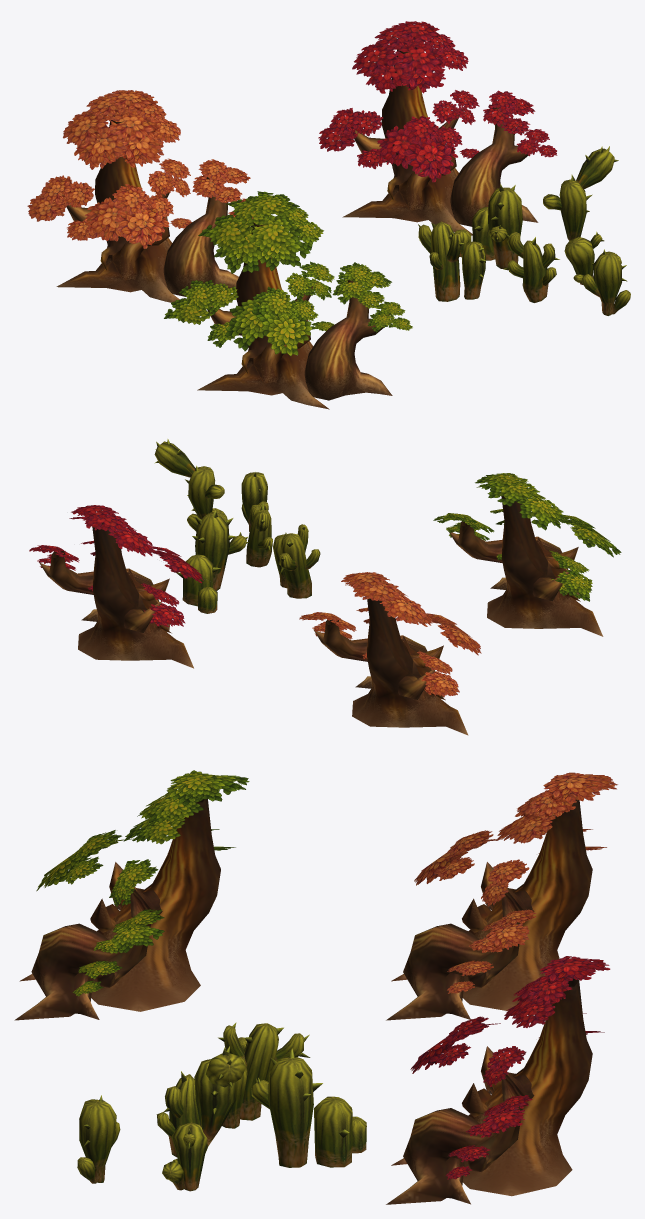
The model's file is shuxianranzhang.FBX.
3 views of the same model, one above another, from view 1: azimuth 30°, elevation 25°; view 2: azimuth 150°, elevation 25°; view 3: azimuth 270°, elevation 25° (orthographic). The views are drawn at different scales.
Parts seen in each view (by area): view 1: bl_shu, bl_shuh, bl_shul, bl_xianranzhang04, bl_xianranzhang01, bl_xianranzhang02, bl_xianranzhang03, bl_xianranzhang05; view 2: bl_shu, bl_shuh, bl_shul, bl_xianranzhang02, bl_xianranzhang04, bl_xianranzhang01, bl_xianranzhang03, bl_xianranzhang05; view 3: bl_shu, bl_shul, bl_shuh, bl_xianranzhang02, bl_xianranzhang04, bl_xianranzhang01, bl_xianranzhang05, bl_xianranzhang03.
Boxes of the visible parts, x1,y1,x2,y2 form: bl_shu: (164,191,412,409); bl_shuh: (27,90,253,302); bl_shul: (318,21,557,235); bl_xianranzhang04: (543,146,621,284); bl_xianranzhang01: (418,221,485,301); bl_xianranzhang02: (454,184,522,268); bl_xianranzhang03: (503,231,559,302); bl_xianranzhang05: (582,249,630,315); bl_shu: (433,473,621,636); bl_shuh: (299,572,481,735); bl_shul: (29,505,203,668); bl_xianranzhang02: (176,511,248,613); bl_xianranzhang04: (154,439,227,531); bl_xianranzhang01: (273,524,320,598); bl_xianranzhang03: (246,502,272,567); bl_xianranzhang05: (241,472,268,531); bl_shu: (14,770,249,1020); bl_shul: (386,956,610,1204); bl_shuh: (386,772,617,1020); bl_xianranzhang02: (251,1048,366,1167); bl_xianranzhang04: (162,1046,246,1191); bl_xianranzhang01: (218,1022,310,1128); bl_xianranzhang05: (77,1095,120,1183); bl_xianranzhang03: (156,1071,199,1157).
Size of the model in its own units: 5045 by 1532 by 4098.
